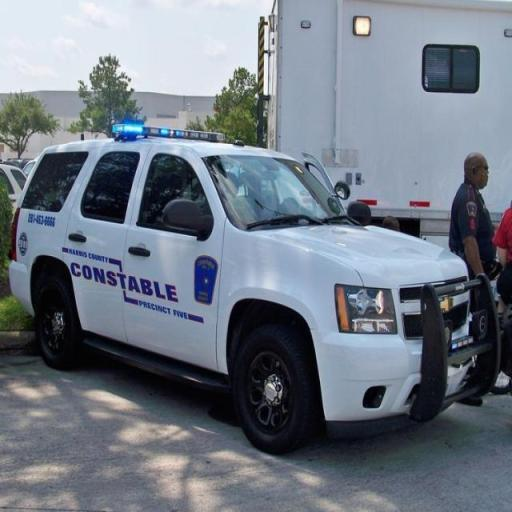Ambulance: (13, 123, 488, 452)
